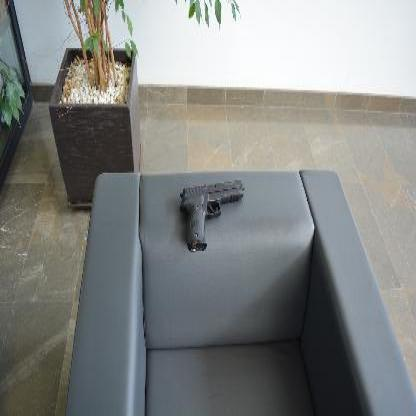pistol: (178, 178, 244, 250)
